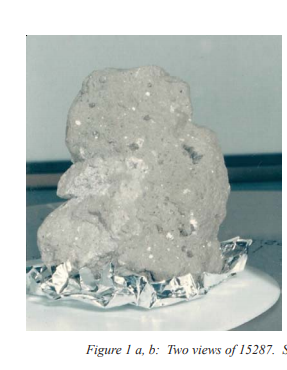Breccia: (52, 47, 246, 292)
